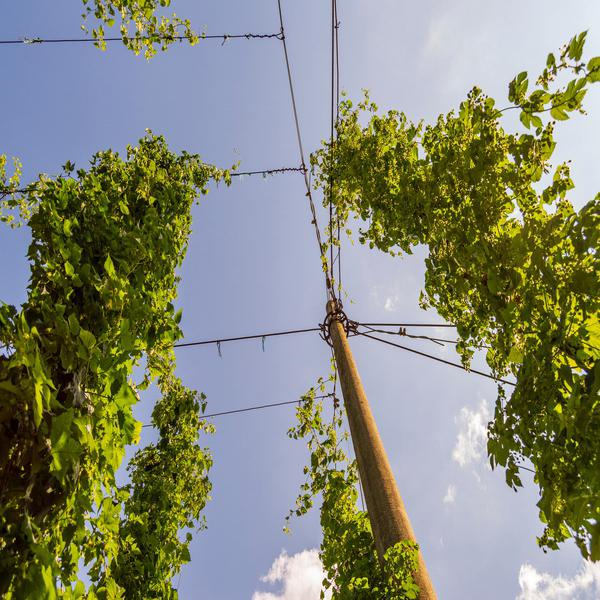utility_pole: (292, 274, 381, 388)
